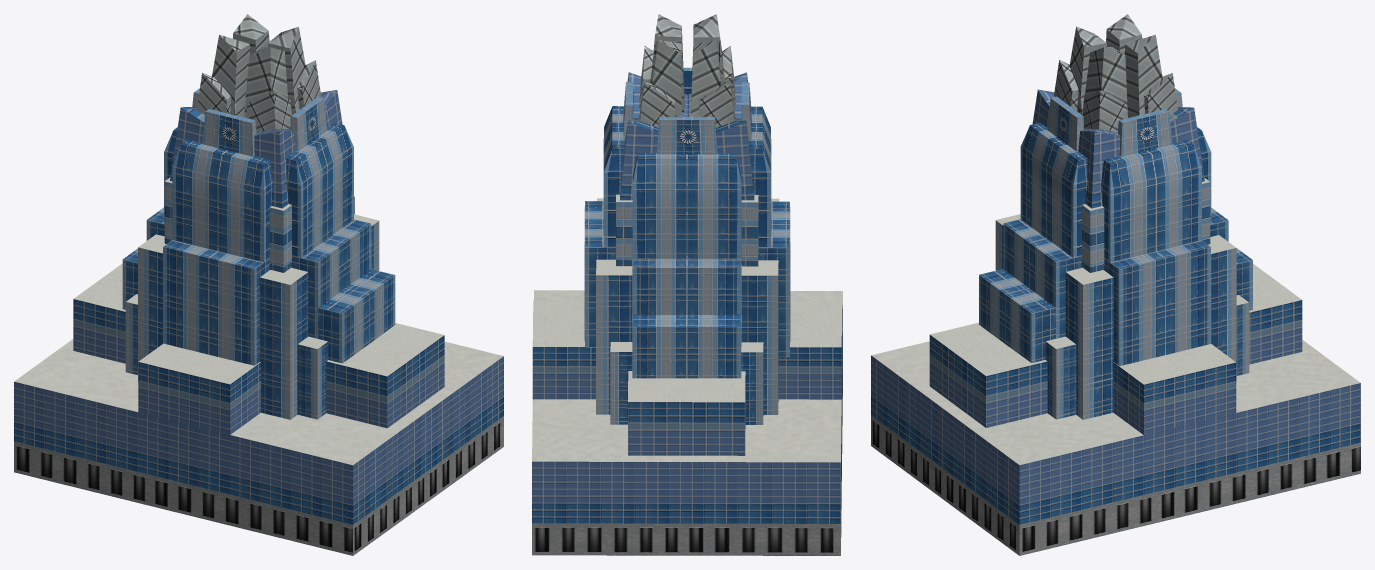
Rendered from Austin_track_landmark_04.dae.
The picture shows the model from 3 angles, left to right: view 1: azimuth 30°, elevation 25°; view 2: azimuth 150°, elevation 25°; view 3: azimuth 270°, elevation 25°; orthographic projection. The views are drawn at different scales.
Parts seen in each view (by area): view 1: Austin_track_landmark_04; view 2: Austin_track_landmark_04; view 3: Austin_track_landmark_04.
Part boxes in pixels (x1,y1,x2,y2): Austin_track_landmark_04: (14,14,503,555); Austin_track_landmark_04: (532,14,842,555); Austin_track_landmark_04: (871,14,1360,555).
Size of the model in its own units: 11.68 by 12.57 by 12.16.
Materials: 1 (1 with a texture image).
